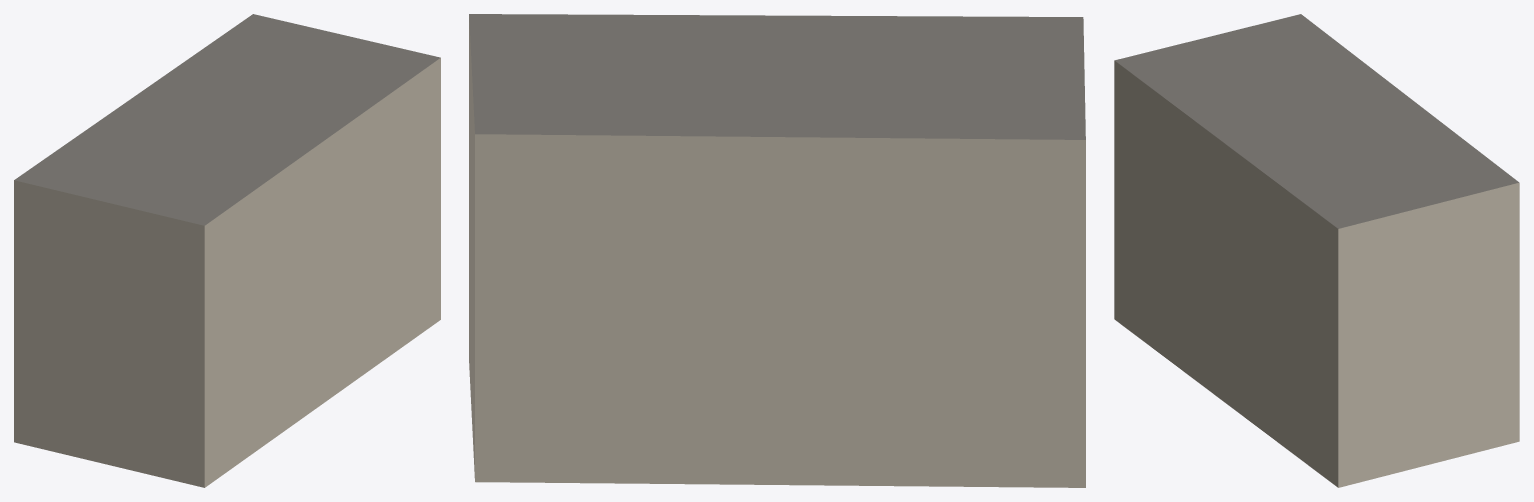
3 renders of one model, left to right at view 1: azimuth 30°, elevation 25°; view 2: azimuth 150°, elevation 25°; view 3: azimuth 270°, elevation 25°, orthographic. The views are drawn at different scales.
Visible parts, largest first — view 1: HP-w505633399; view 2: HP-w505633399; view 3: HP-w505633399.
Boxes of the visible parts, left/top/right/bottom form: HP-w505633399: left=14, top=14, right=440, bottom=487; HP-w505633399: left=469, top=14, right=1085, bottom=487; HP-w505633399: left=1114, top=14, right=1519, bottom=487.
Bounding box in the file's own units: 32.03 × 18 × 25.51.
